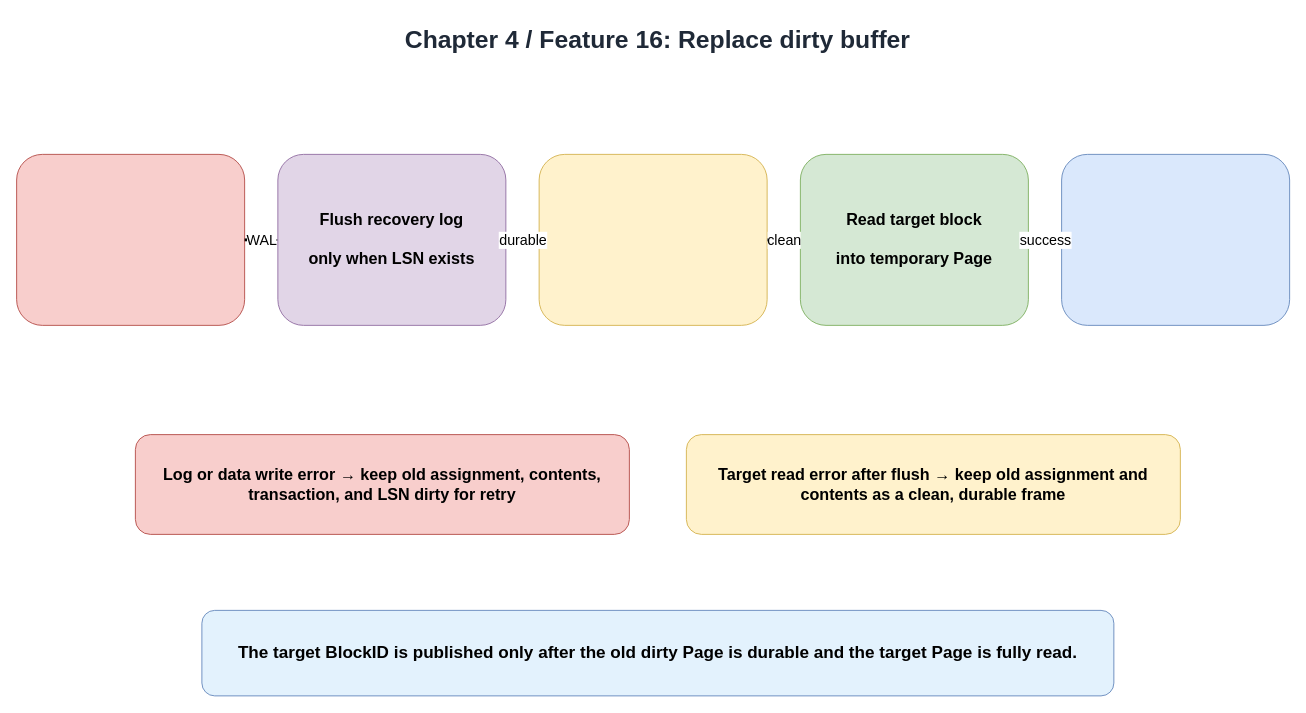
This 1306x713 diagram has some shape labels left out. The shapes that lost their labels are listed below. From the top down, each one's centre as x and y in pixels, then its label:
[130,239]: Dirty old frame assigned · pin count 0 transaction + optional LSN
[652,239]: Write old data Page then clear dirty metadata
[1175,239]: Commit replacement BlockID + Contents clean · pin count 0
